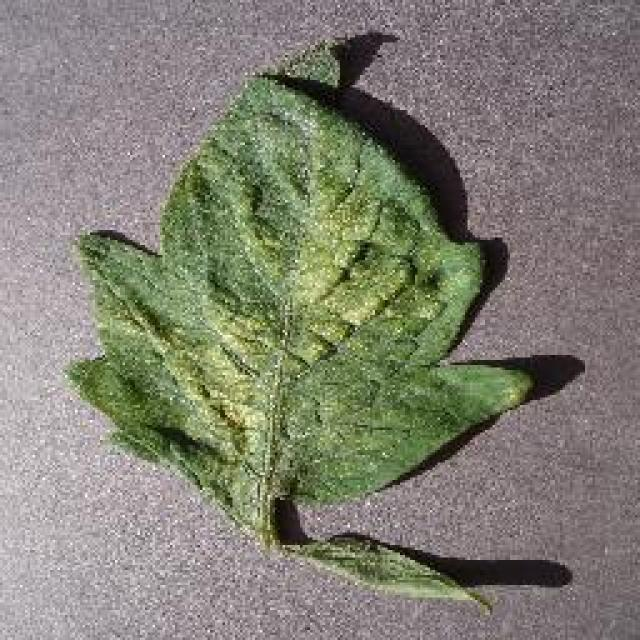Tomato spider mites leaf: (70, 40, 532, 502)
